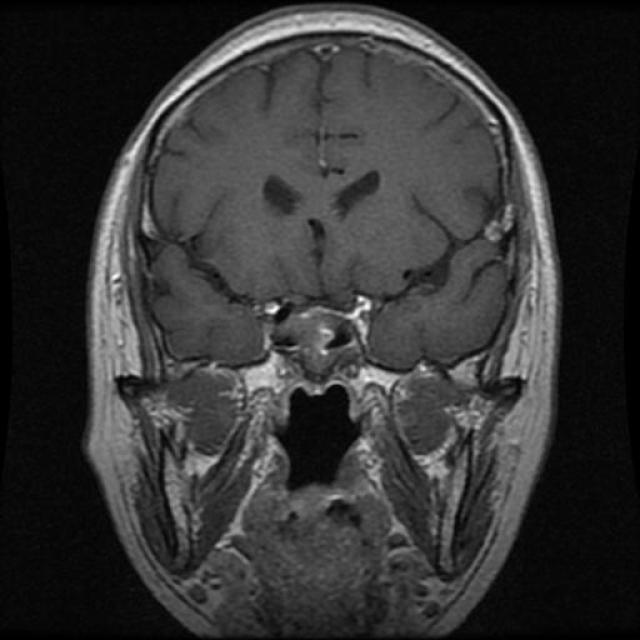pituitary: (252, 290, 389, 376)
